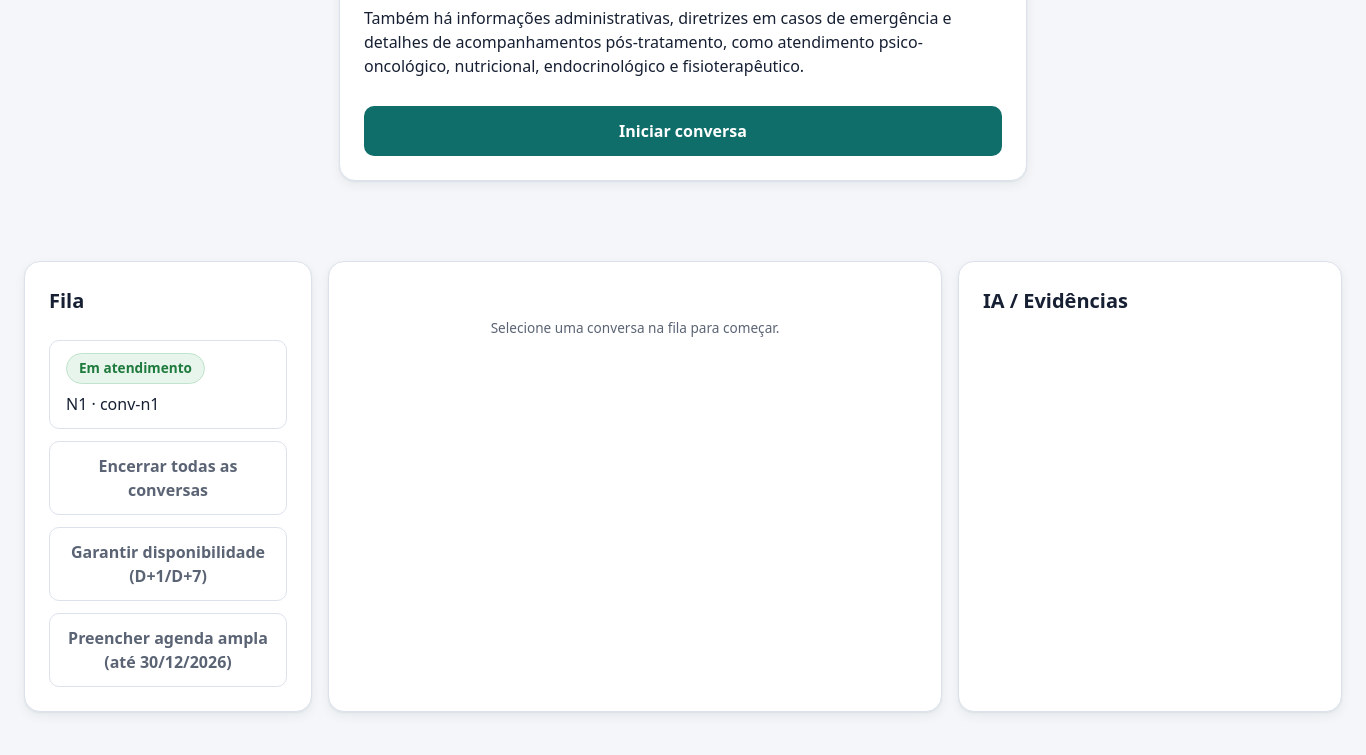
it: V1 routes › omits the evidence-selection action in N1-assistive search, since the backend requires N2 (V2-1/T104)
(page scrolled)
Click the button "Em atendimento N1 · conv-n1". click: (168, 384)
box: [49,340,287,429]
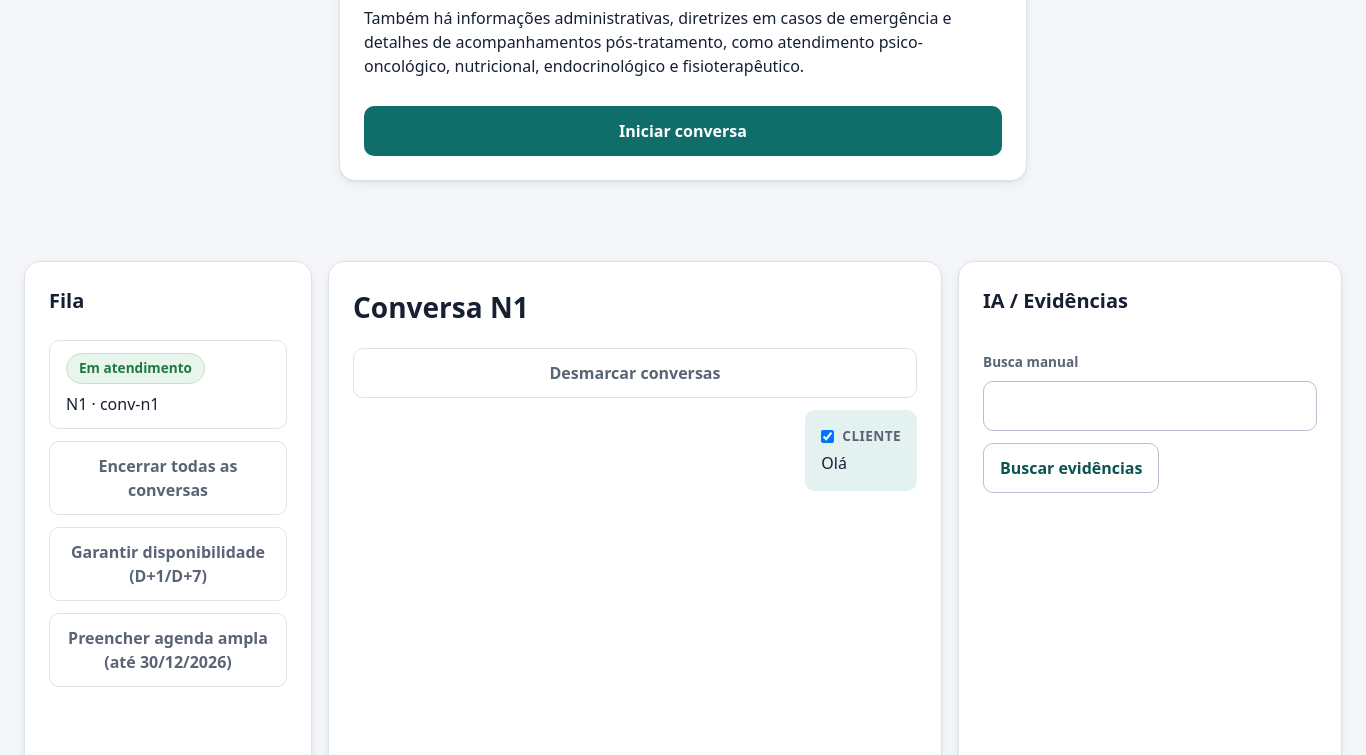
Type "horário" into the field labelled "Busca manual". click: (1150, 406)
box: [983,381,1317,431]
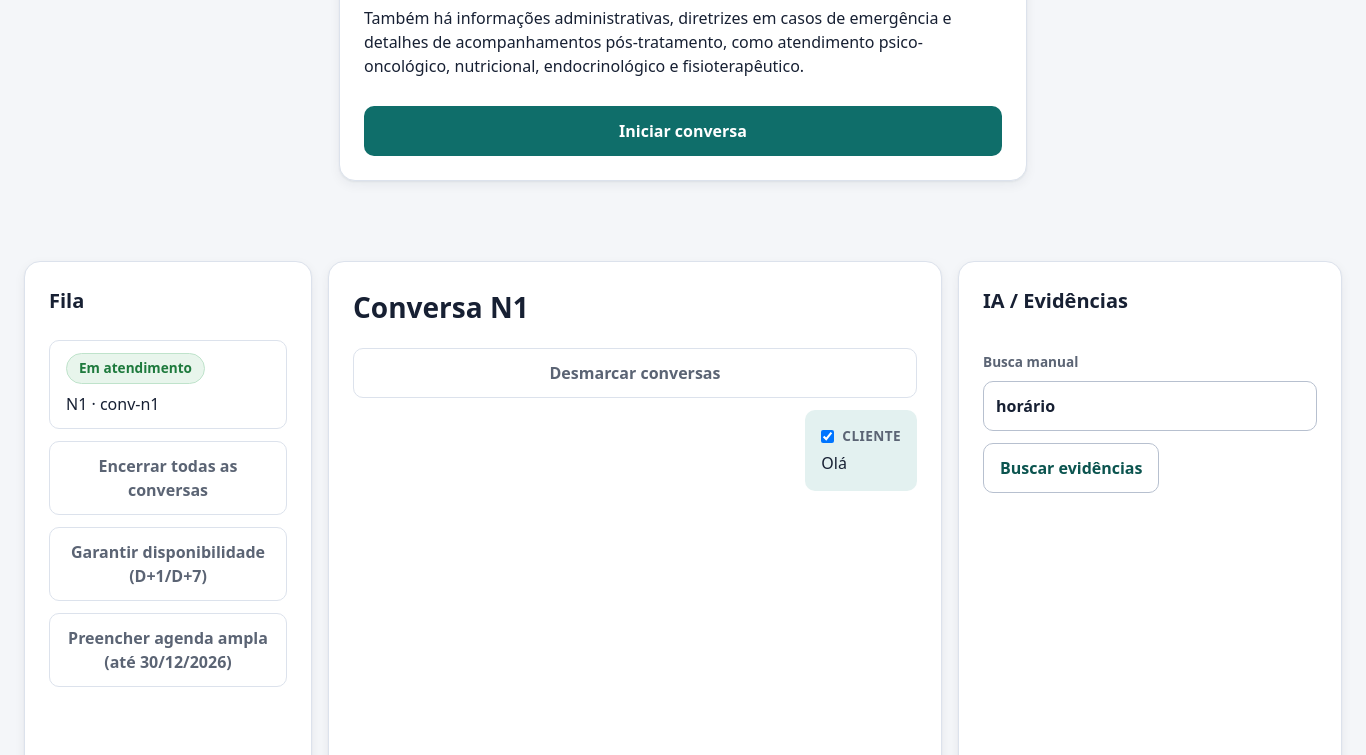
Click the button "Buscar evidências". click: (1071, 468)
box: [983,443,1160,493]
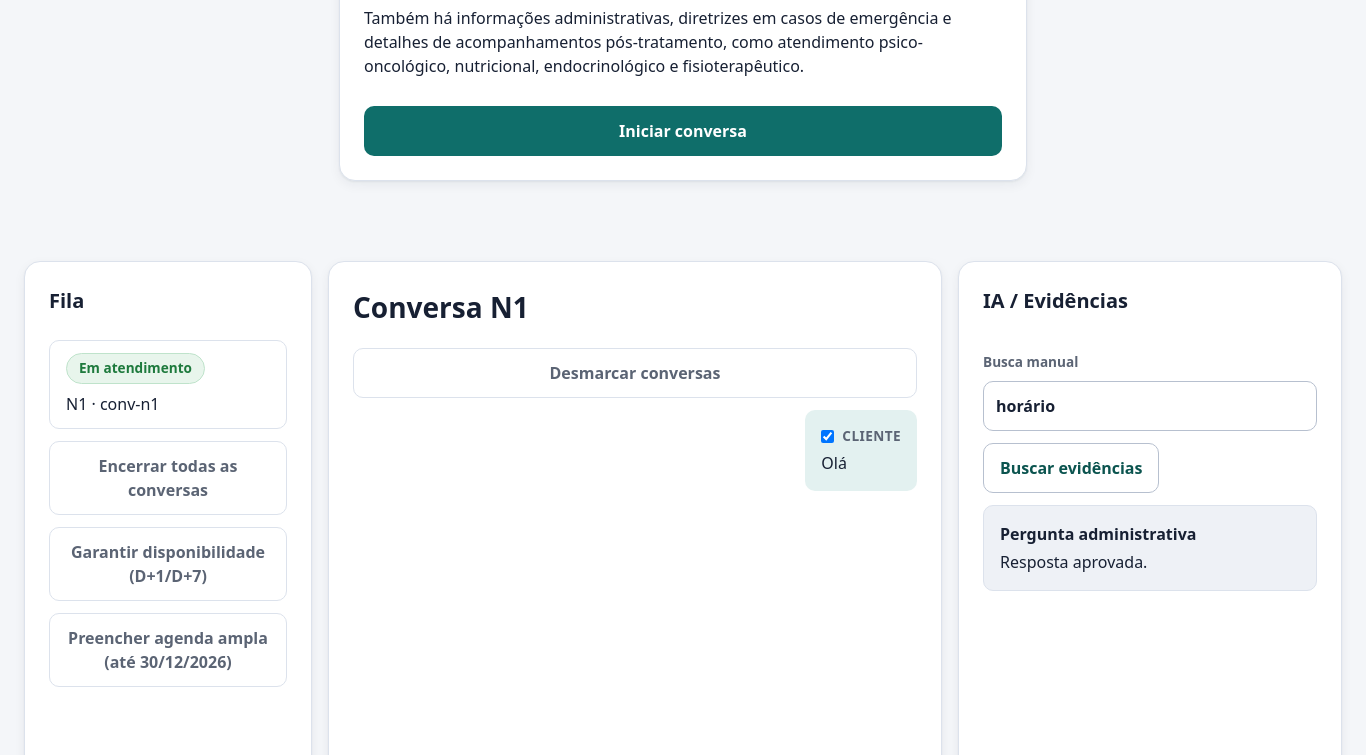
Result: the text "Pergunta administrativa" is shown at [1000,523,1196,545]
